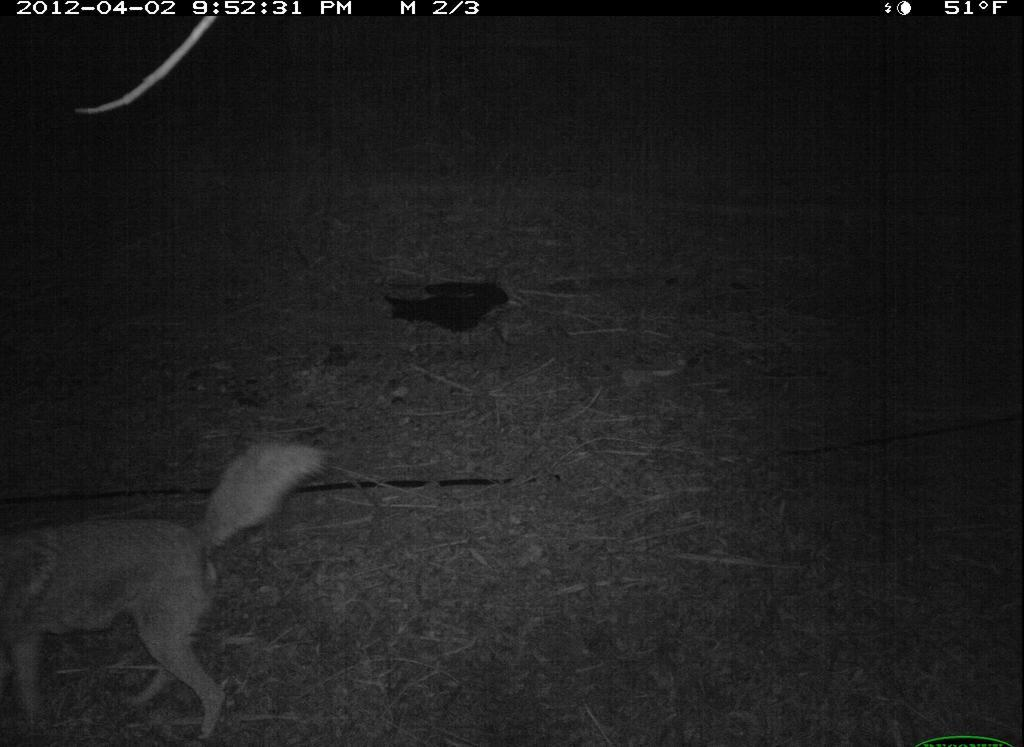coyote: (2, 438, 326, 743)
